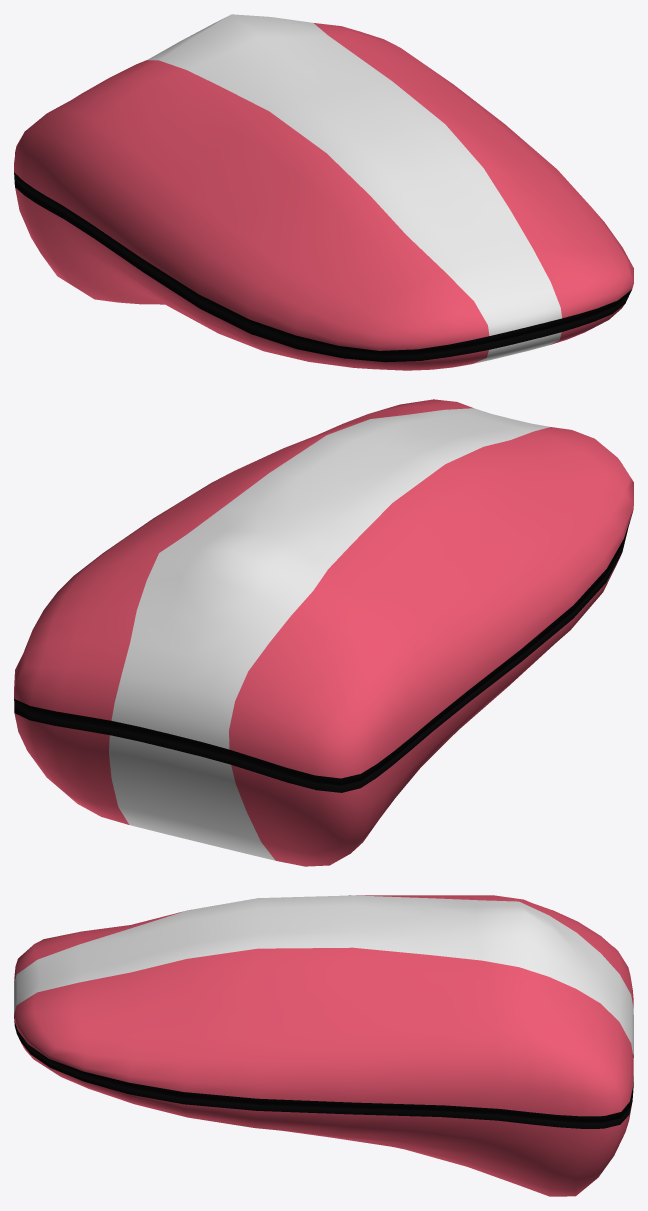
Rendered from BootHülle.fbx.
3 views of the same model, one above another, from view 1: azimuth 30°, elevation 25°; view 2: azimuth 150°, elevation 25°; view 3: azimuth 270°, elevation 25° (orthographic). The views are drawn at different scales.
Parts seen in each view (by area): view 1: BootHülle, BootHülle.001; view 2: BootHülle, BootHülle.001; view 3: BootHülle, BootHülle.001.
Boxes of the visible parts, bbox=[...] form: BootHülle: bbox=[14, 14, 633, 356]; BootHülle.001: bbox=[14, 180, 628, 370]; BootHülle: bbox=[14, 399, 633, 785]; BootHülle.001: bbox=[14, 530, 627, 866]; BootHülle: bbox=[14, 895, 633, 1122]; BootHülle.001: bbox=[14, 1016, 633, 1196].
Bounding box in the file's own units: 83.18 × 58.13 × 135.
